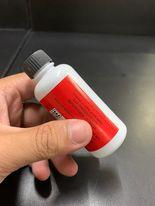-Bottle-: (22, 49, 128, 159)
